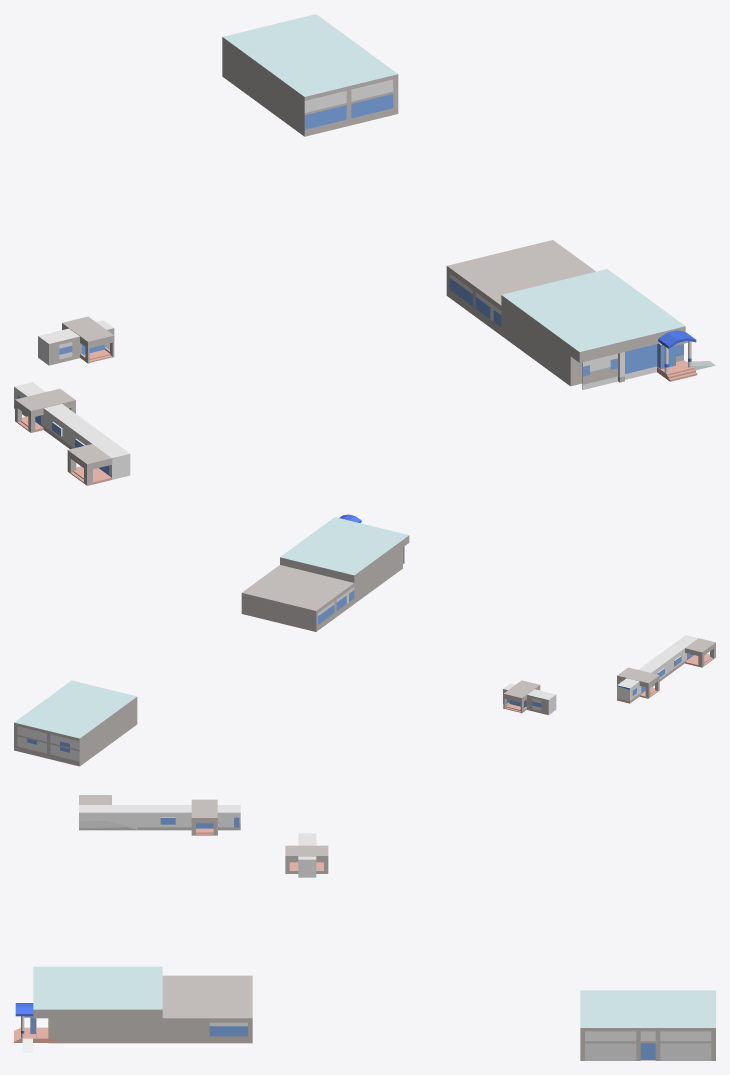
The model's file is yahaba_tuuro.glb.
The picture shows the model from 3 angles, top to bottom: view 1: azimuth 30°, elevation 25°; view 2: azimuth 150°, elevation 25°; view 3: azimuth 270°, elevation 25°; orthographic projection. The views are drawn at different scales.
Parts seen in each view (by area): view 1: 体育館前スペース・屋根装飾土台, 立方体.018, 食堂・学生寮側通路, 体育館・昇降口・壁, 食堂・本校者側通路, 食堂・学生寮側通路出入り口屋根, 食堂・本校舎側通路出入り口屋根, 食堂・学生寮側通路出入り口屋根_2; view 2: 体育館前スペース・屋根装飾土台, 立方体.018, 食堂・学生寮側通路, 食堂・本校者側通路, 食堂・学生寮側通路出入り口屋根, 食堂・本校舎側通路出入り口屋根, 食堂・学生寮側通路出入り口屋根_2; view 3: 体育館前スペース・屋根装飾土台, 立方体.018, 食堂・学生寮側通路, 食堂・本校舎側通路出入り口屋根, 食堂・学生寮側通路出入り口屋根, 食堂・本校者側通路, 体育館・昇降口階段.
Part boxes in pixels (x1,y1,x2,y2): 体育館前スペース・屋根装飾土台: (446, 240, 685, 386); 立方体.018: (222, 14, 398, 136); 食堂・学生寮側通路: (14, 382, 130, 479); 体育館・昇降口・壁: (582, 343, 683, 389); 食堂・本校者側通路: (38, 320, 114, 365); 食堂・学生寮側通路出入り口屋根: (15, 388, 75, 432); 食堂・本校舎側通路出入り口屋根: (62, 316, 114, 363); 食堂・学生寮側通路出入り口屋根_2: (67, 444, 112, 485); 体育館前スペース・屋根装飾土台: (241, 517, 409, 631); 立方体.018: (14, 680, 137, 766); 食堂・学生寮側通路: (617, 635, 698, 703); 食堂・本校者側通路: (503, 683, 556, 715); 食堂・学生寮側通路出入り口屋根: (617, 667, 659, 698); 食堂・本校舎側通路出入り口屋根: (503, 680, 540, 713); 食堂・学生寮側通路出入り口屋根_2: (685, 638, 715, 667); 体育館前スペース・屋根装飾土台: (33, 966, 252, 1043); 立方体.018: (580, 990, 715, 1060); 食堂・学生寮側通路: (79, 805, 240, 830); 食堂・本校舎側通路出入り口屋根: (285, 845, 328, 873); 食堂・学生寮側通路出入り口屋根: (191, 799, 217, 835); 食堂・本校者側通路: (298, 833, 316, 877); 体育館・昇降口階段: (14, 1027, 57, 1042).
Size of the model in its own units: 26.51 by 1.68 by 31.74.
1 material, 1 textured.
